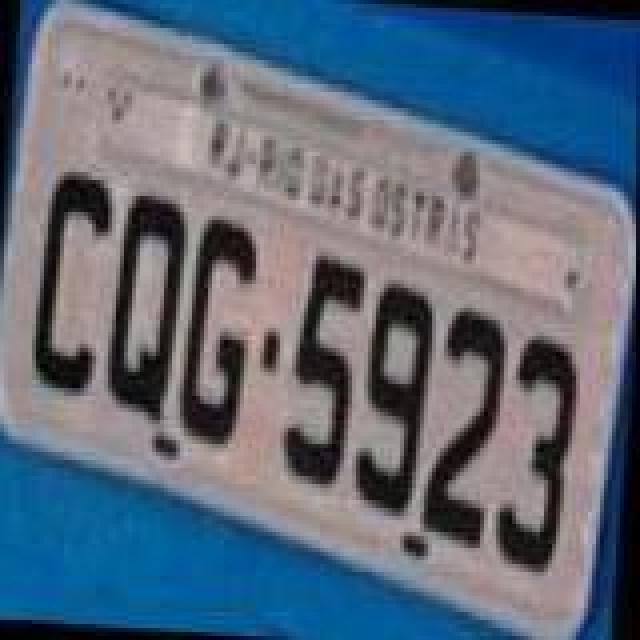2: (422, 302, 514, 554)
3: (490, 334, 586, 578)
5: (278, 254, 370, 490)
9: (350, 280, 442, 520)
C: (28, 170, 116, 398)
G: (176, 214, 264, 450)
Q: (102, 190, 194, 426)
